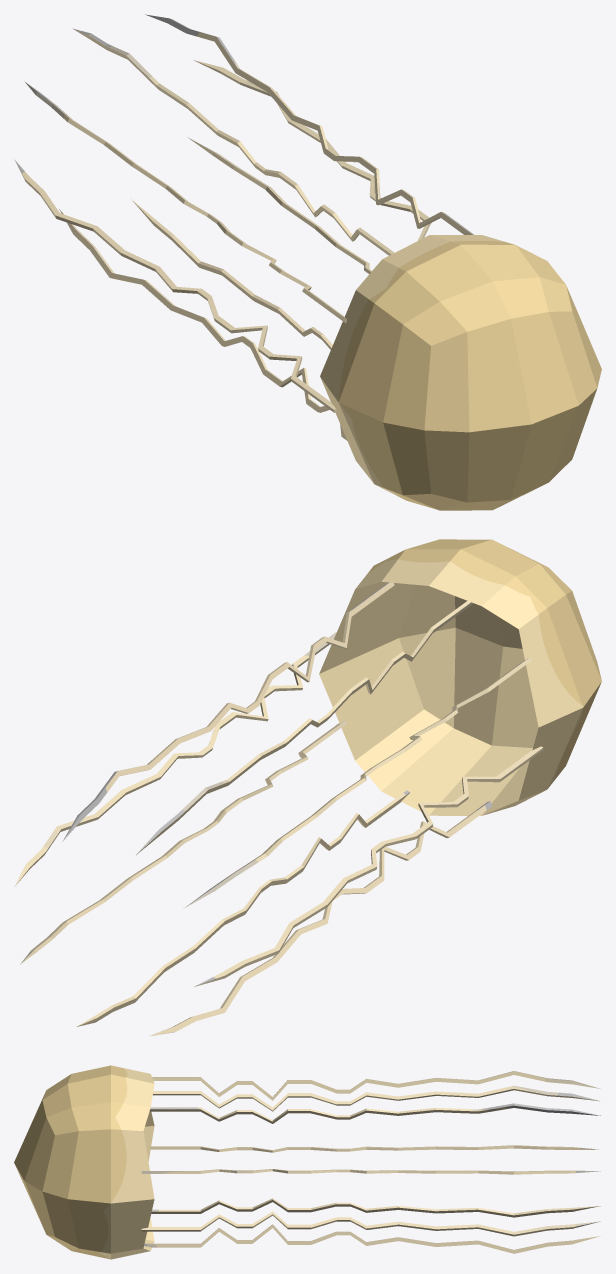
Rendered from Jellyfish.glb.
3 renders of one model, top to bottom at view 1: azimuth 30°, elevation 25°; view 2: azimuth 150°, elevation 25°; view 3: azimuth 270°, elevation 25°, orthographic. The views are drawn at different scales.
Parts seen in each view (by area): view 1: Head, Tentacles; view 2: Head, Tentacles; view 3: Head, Tentacles.
Part boxes in pixels (x1=…): Head: x1=320, y1=235, x2=601, y2=510; Tentacles: x1=14, y1=14, x2=474, y2=440; Head: x1=319, y1=539, x2=601, y2=815; Tentacles: x1=14, y1=582, x2=543, y2=1036; Head: x1=14, y1=1065, x2=154, y2=1259; Tentacles: x1=141, y1=1071, x2=600, y2=1253.
Size of the model in its own units: 0.5881 by 0.5881 by 1.78.
2 materials, 2 textured.
